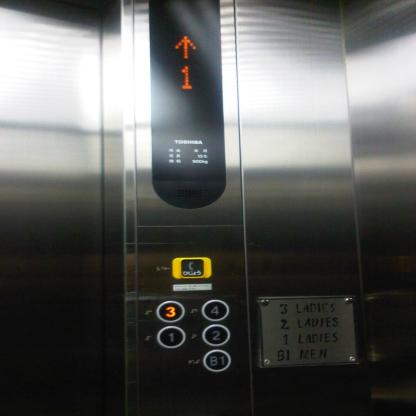1: (156, 324, 187, 348)
2: (201, 324, 231, 346)
3: (155, 300, 186, 322)
4: (201, 299, 229, 321)
B1: (202, 348, 231, 372)
call: (172, 257, 212, 279)
led: (148, 0, 230, 212)
